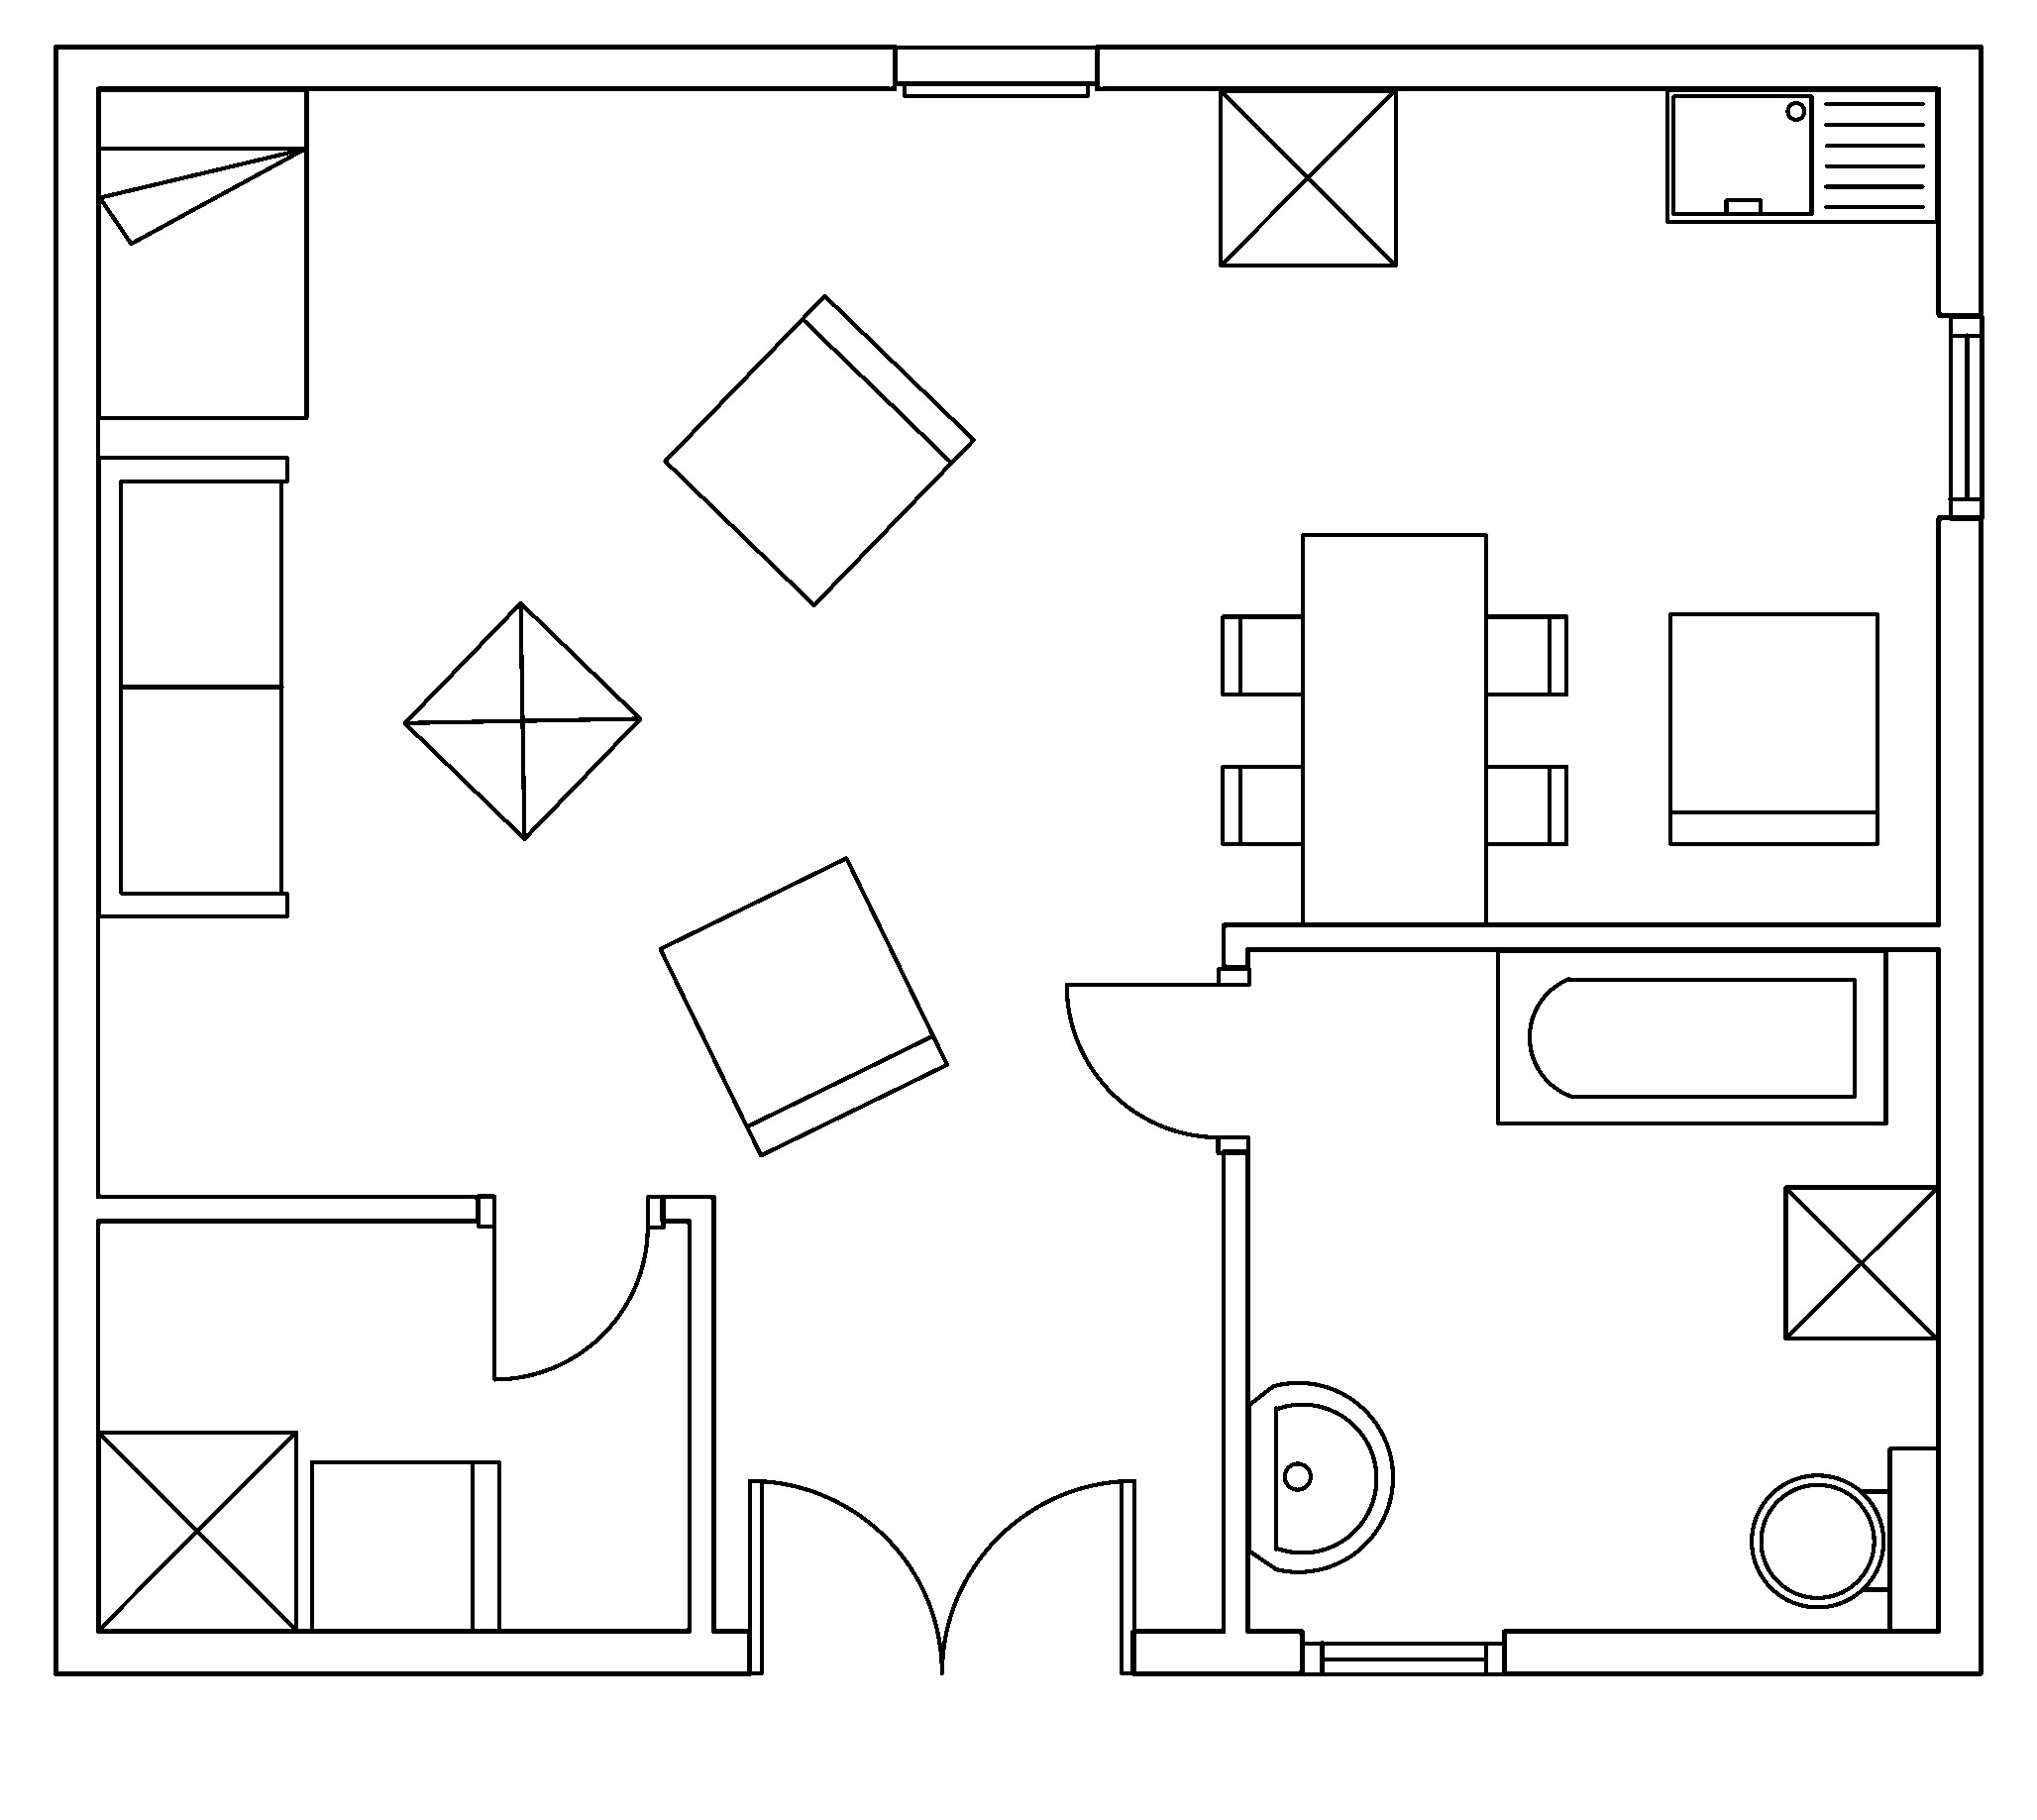bed: (95, 86, 309, 420)
coffee_table: (402, 599, 643, 841), (95, 1428, 299, 1632), (1217, 86, 1398, 267), (1781, 1182, 1940, 1342)
dining_table: (1219, 531, 1568, 926)
large_sink: (1749, 1444, 1940, 1632)
large_sofa: (95, 453, 290, 919)
sink: (1663, 86, 1940, 223)
small_sink: (1245, 1381, 1394, 1572)
small_sofa: (660, 292, 976, 608), (657, 854, 950, 1158), (1666, 610, 1879, 847), (307, 1458, 500, 1632)
tub: (1494, 947, 1888, 1126)
